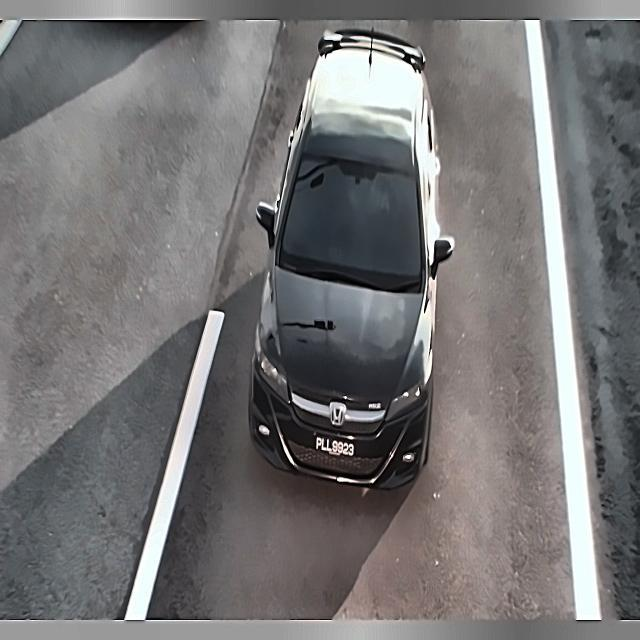car: (312, 432, 362, 463)
